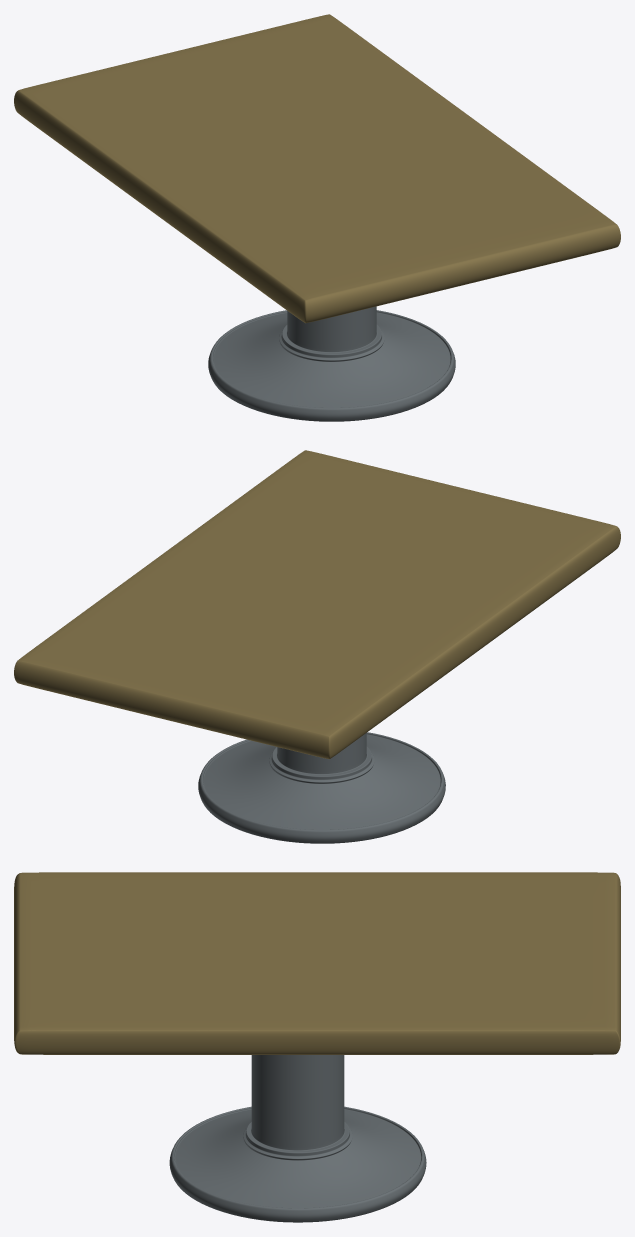
Rendered from MesaComedor.fbx.
3 views of the same model, one above another, from view 1: azimuth 30°, elevation 25°; view 2: azimuth 150°, elevation 25°; view 3: azimuth 270°, elevation 25° (orthographic). The views are drawn at different scales.
Parts seen in each view (by area): view 1: Mesa_high, BaseMesa_high; view 2: Mesa_high, BaseMesa_high; view 3: Mesa_high, BaseMesa_high.
Part boxes in pixels (box(x1,y1,x2,y2)): Mesa_high: box(14, 14, 620, 323); BaseMesa_high: box(208, 306, 455, 421); Mesa_high: box(14, 450, 620, 759); BaseMesa_high: box(198, 732, 445, 843); Mesa_high: box(14, 872, 620, 1054); BaseMesa_high: box(169, 1055, 426, 1222).
Bounding box in the file's own units: 3.28 × 2.06 × 5.24.
